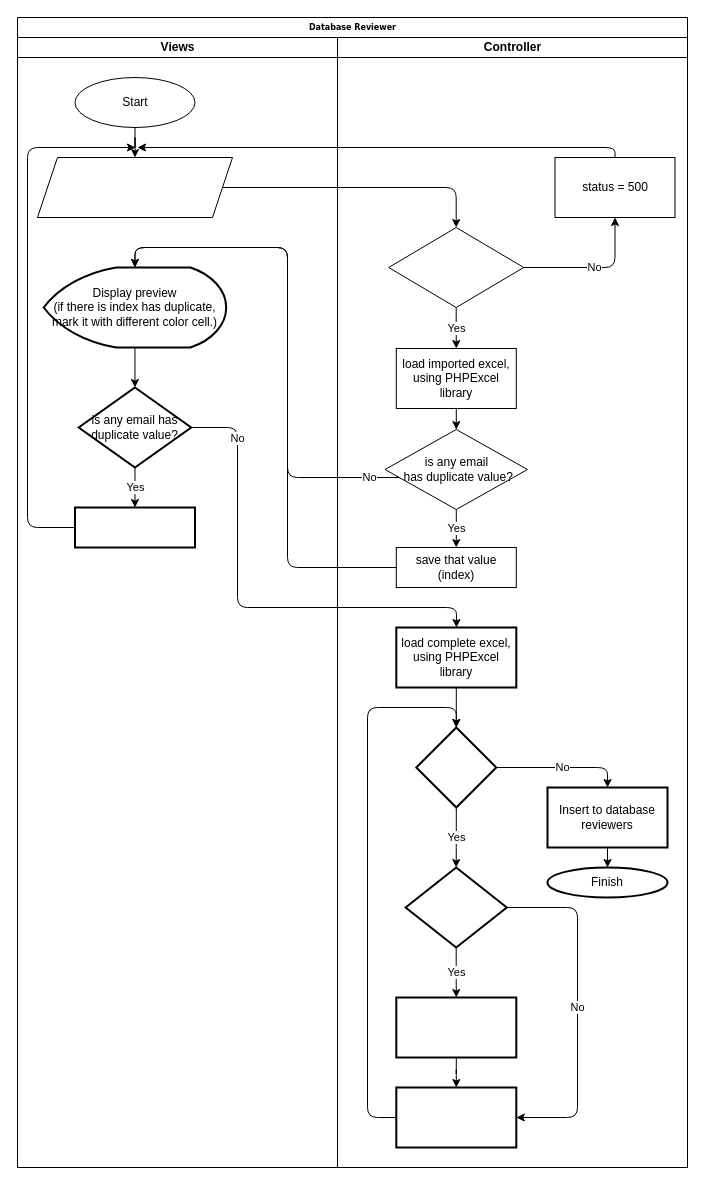
This 705x1185 diagram has some shape labels left out. Here are the shapes that lost their labels. From the top down, the centre of each, then its label:
the point at 134,187: get XLSX reviewers data from manager
the point at 456,267: is upload successfully?
the point at 135,527: hide "import" button, ask manager to fix it.
the point at 456,767: while index < total rows
the point at 455,907: is email has expertise?
the point at 456,1027: append email expertise and conference manager input expertise
the point at 456,1117: clean and filter from duplicate expertise index++
